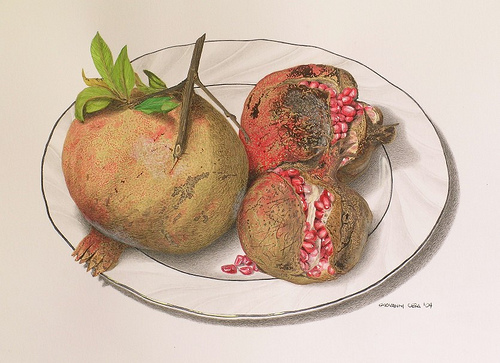pomogranate: (61, 34, 250, 276), (220, 135, 373, 285), (240, 63, 401, 179)
